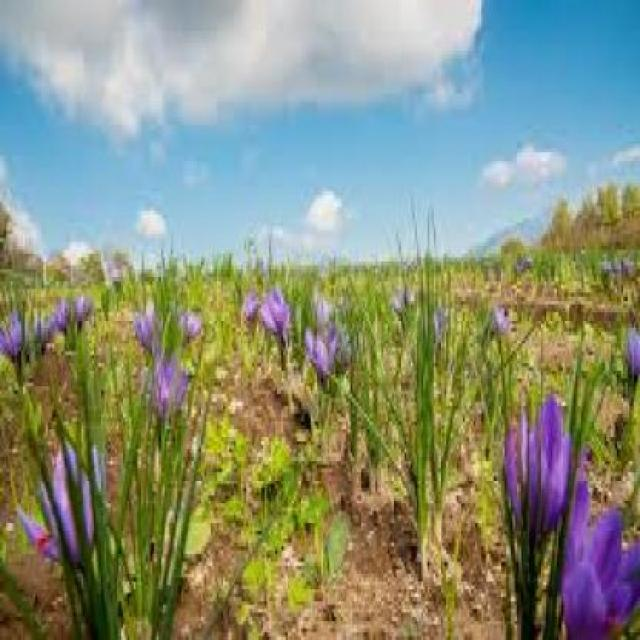saffron open: (561, 470, 640, 639), (504, 396, 570, 545), (39, 444, 95, 568), (306, 328, 337, 379)
